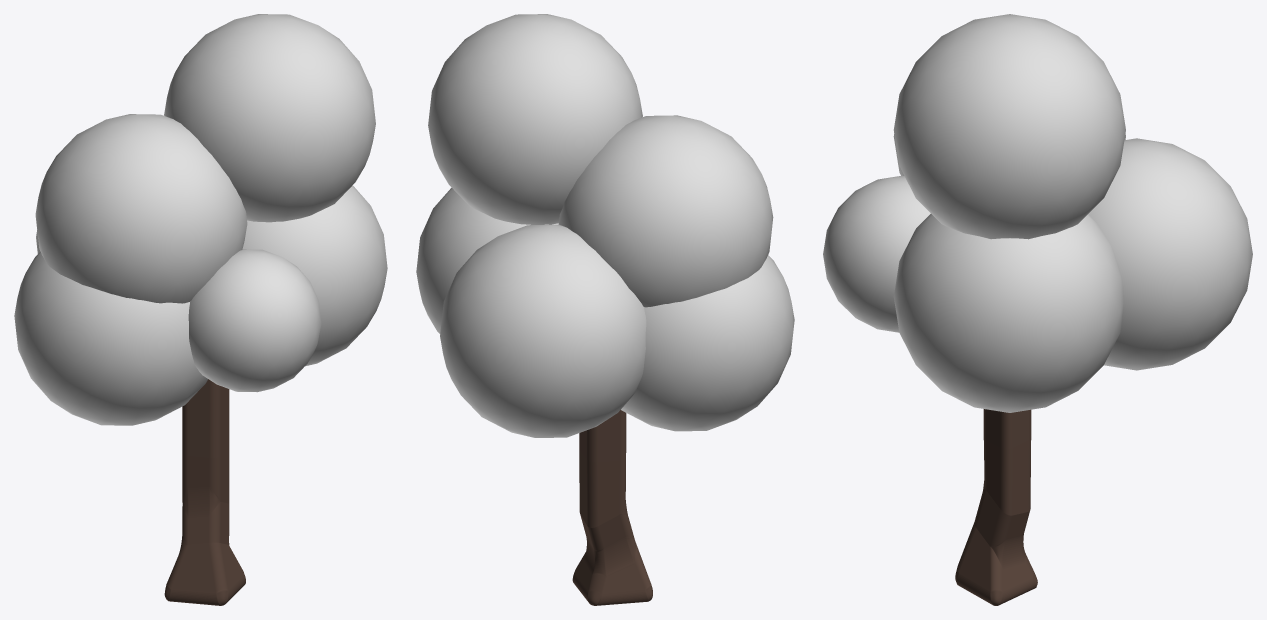
File: ForestTree3 1.fbx
The picture shows the model from 3 angles, left to right: view 1: azimuth 30°, elevation 25°; view 2: azimuth 150°, elevation 25°; view 3: azimuth 270°, elevation 25°; orthographic projection. The views are drawn at different scales.
Visible parts, largest first — view 1: Icosphere.005; view 2: Icosphere.005; view 3: Icosphere.005.
Part boxes in pixels (box(x1,y1,x2,y2)): Icosphere.005: box(14, 14, 387, 605); Icosphere.005: box(416, 14, 794, 605); Icosphere.005: box(823, 14, 1252, 605).
Size of the model in its own units: 248 by 376 by 245.
